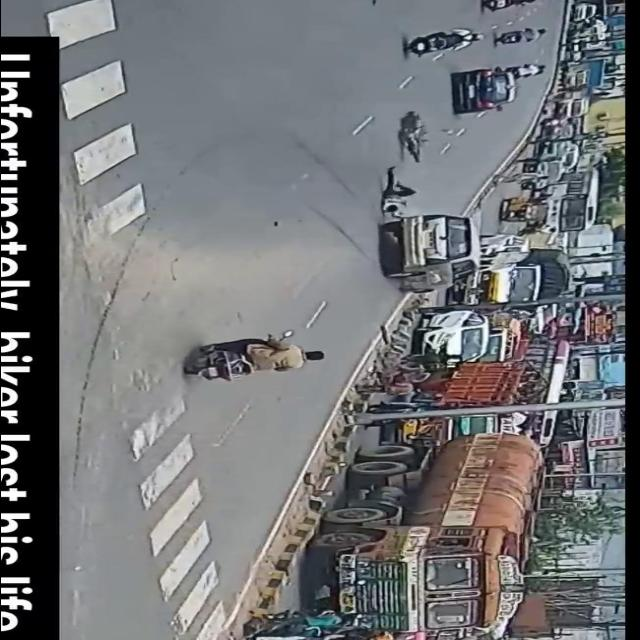accident: (364, 167, 488, 301), (388, 98, 444, 166)
non_accident: (243, 428, 549, 640), (513, 0, 633, 216), (367, 308, 577, 427), (444, 216, 584, 304)
